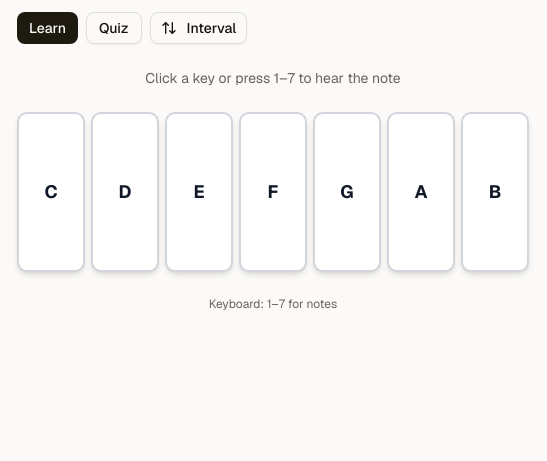
Test: EarTrainer › switching to quiz mode shows quiz panel
This screenshot has width=547, height=461.
Step 1. Click the button with test id "mode-quiz" → coordinates (114, 28), box [86, 12, 142, 44]
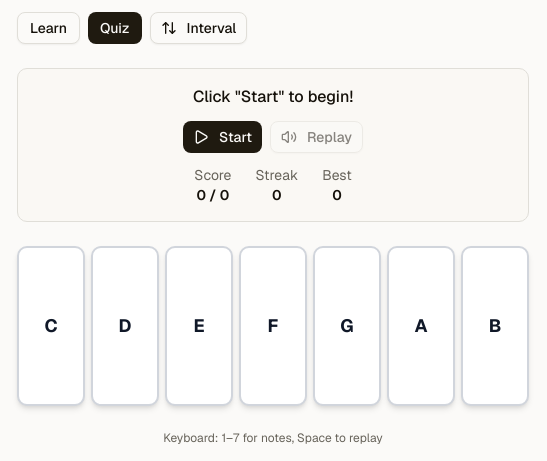
Expected: the element with test id "quiz-panel" is shown, [17, 68, 529, 222]
Expected: the button with test id "start-btn" is shown, [183, 121, 262, 153]
